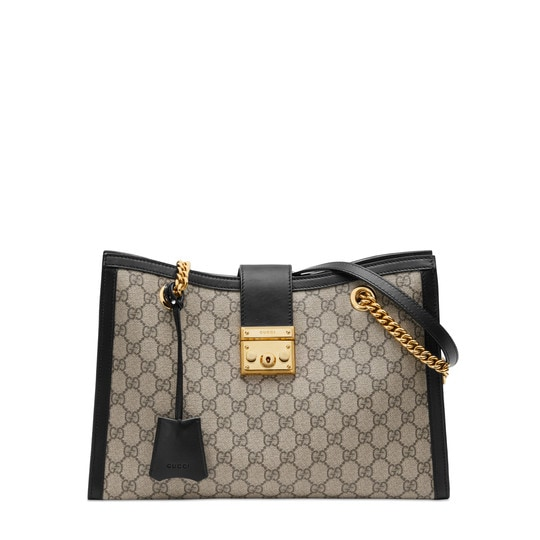Gucci: (81, 218, 474, 516), (204, 389, 459, 491)
